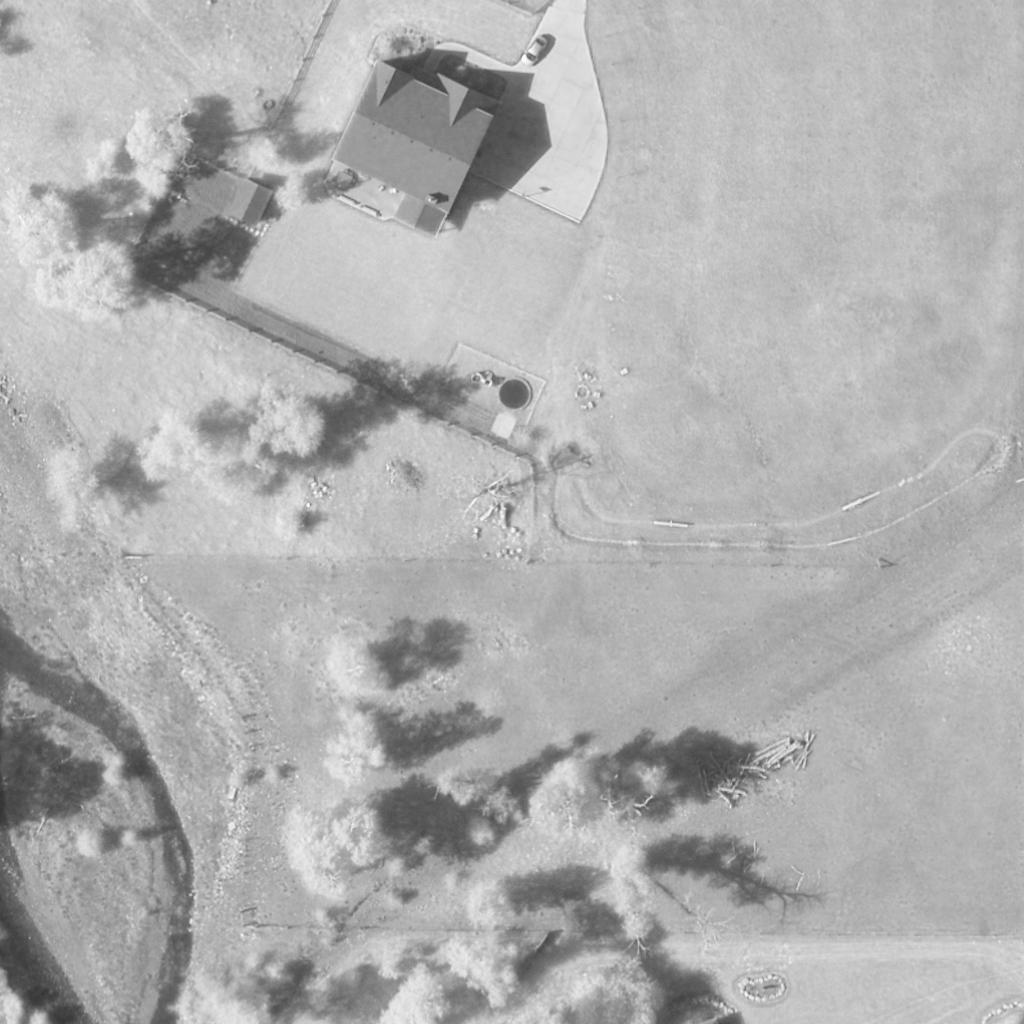vehicle: (520, 34, 550, 72)
